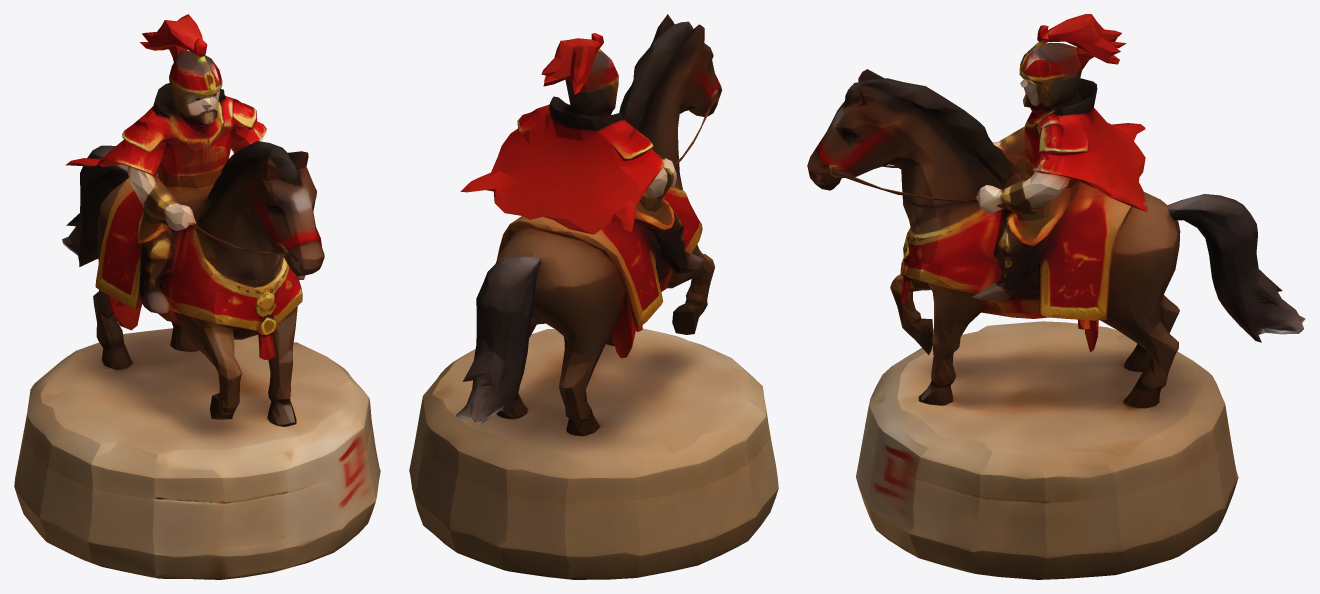
Rendered from horse_red.glb.
3 renders of one model, left to right at view 1: azimuth 30°, elevation 25°; view 2: azimuth 150°, elevation 25°; view 3: azimuth 270°, elevation 25°, orthographic. The views are drawn at different scales.
Visible parts, largest first — view 1: Mesh; view 2: Mesh; view 3: Mesh.
Part boxes in pixels (x1=…): Mesh: x1=14, y1=14, x2=380, y2=579; Mesh: x1=409, y1=14, x2=778, y2=579; Mesh: x1=807, y1=14, x2=1305, y2=579.
Size of the model in its own units: 1.33 by 1.9 by 1.76.
1 material, 1 textured.
